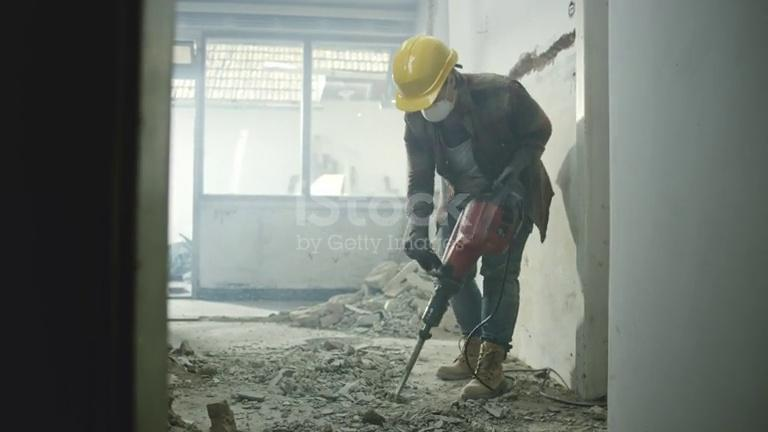helmet: (391, 33, 459, 113)
mask: (421, 85, 456, 123)
person: (391, 33, 555, 401)
